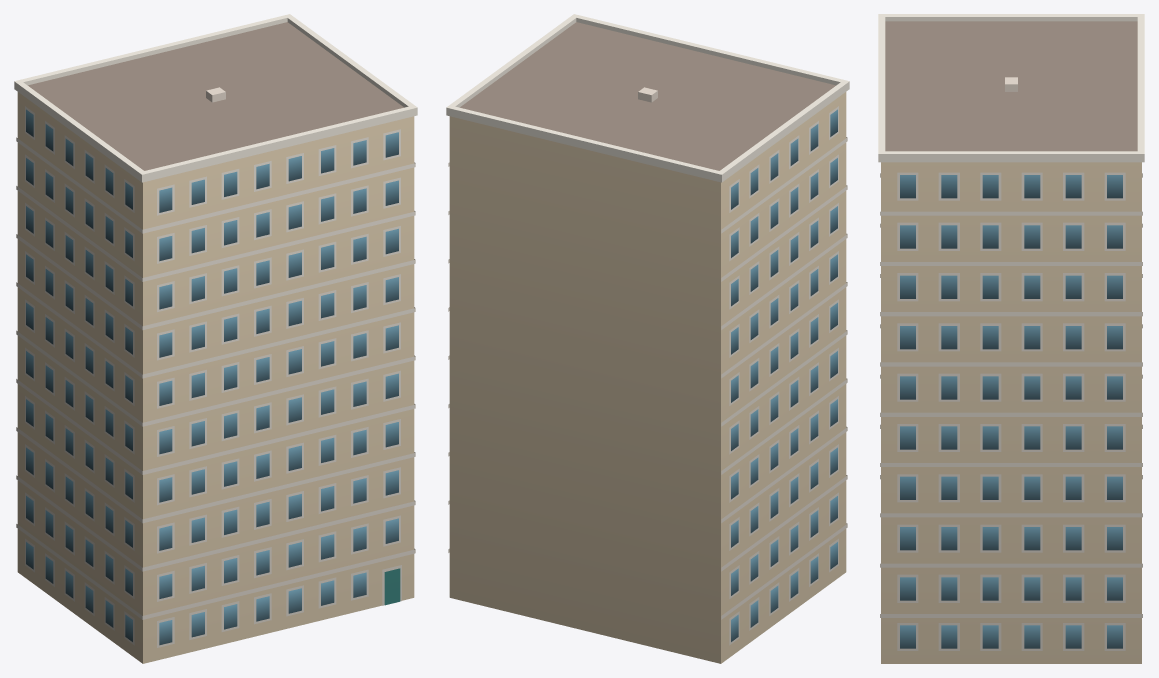
The model's file is sky1_far.glb.
3 renders of one model, left to right at view 1: azimuth 30°, elevation 25°; view 2: azimuth 150°, elevation 25°; view 3: azimuth 270°, elevation 25°, orthographic. The views are drawn at different scales.
Parts seen in each view (by area): view 1: sky1_far; view 2: sky1_far; view 3: sky1_far.
Part boxes in pixels (x1,y1,x2,y2): sky1_far: (14,14,417,663); sky1_far: (446,14,849,663); sky1_far: (878,14,1144,663).
Bounding box in the file's own units: 20.32 × 34.77 × 16.32.
1 material, 1 textured.
